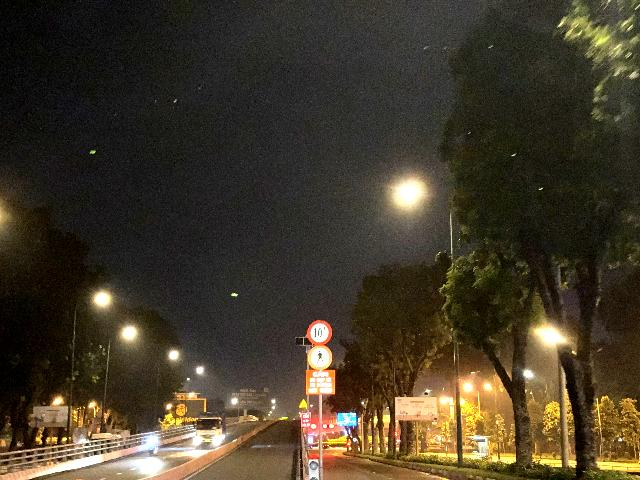cam-nguoi-di-bo: (308, 346, 332, 370)
han-che-trong-luong-xe: (307, 320, 332, 346)
